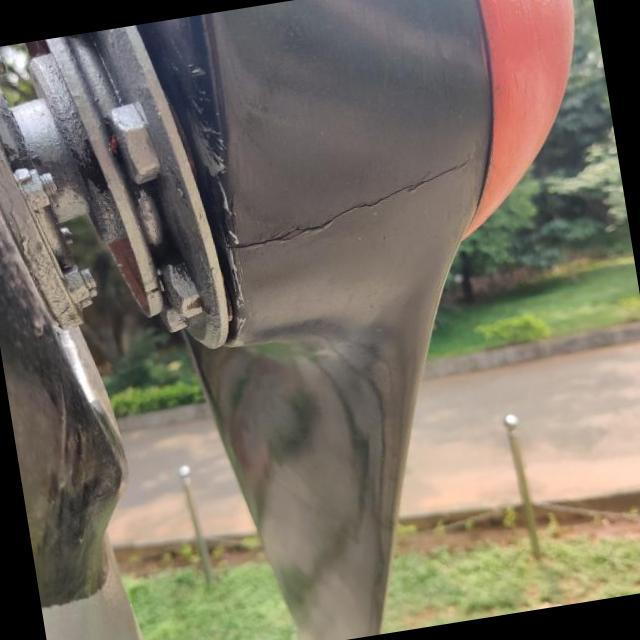Crack: (338, 163, 471, 217), (276, 218, 336, 238), (240, 241, 263, 245)
